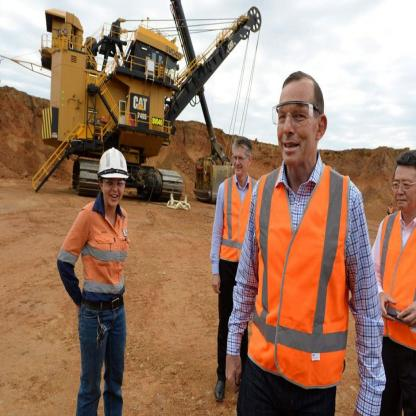person: (214, 60, 395, 415), (51, 138, 139, 416), (199, 124, 249, 404), (372, 142, 416, 416)
